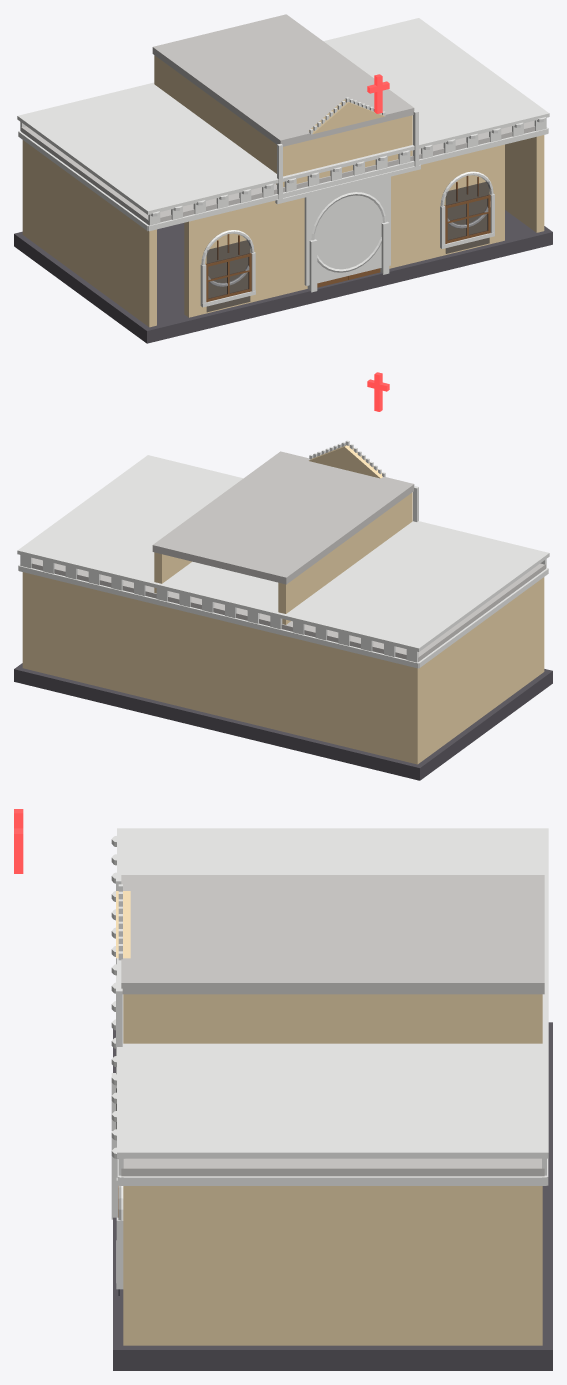
File: Subbamma chapppel.glb
3 views of the same model, one above another, from view 1: azimuth 30°, elevation 25°; view 2: azimuth 150°, elevation 25°; view 3: azimuth 270°, elevation 25° (orthographic). The views are drawn at different scales.
Parts seen in each view (by area): view 1: Parapet_Slab, Gable_Roof, Wall_Left, Plinth, Wall_FL, Wall_FR, Ent_ArchBG, Gable_Wall, Gable_WallL, Wall_Right, Roof_Main, Trim_F (+11 smaller); view 2: Wall_Back, Parapet_Slab, Gable_Roof, Wall_Left, Plinth, Gable_WallL, Roof_Main, Trim_B, GablePeak, Trim_L, Gable_WallR; view 3: Parapet_Slab, Wall_Right, Gable_Roof, Gable_WallR, Plinth, Roof_Main, Trim_R, Wall_Back, Gable_Wall, GablePeak.
Boxes of the visible parts, <box> form: Parapet_Slab: <box>17,18,549,214</box>; Gable_Roof: <box>152,14,414,146</box>; Wall_Left: <box>22,141,156,327</box>; Plinth: <box>14,210,552,343</box>; Wall_FL: <box>184,198,307,317</box>; Wall_FR: <box>389,144,504,268</box>; Ent_ArchBG: <box>304,176,390,285</box>; Gable_Wall: <box>276,115,412,187</box>; Gable_WallL: <box>154,55,288,185</box>; Wall_Right: <box>505,135,544,232</box>; Roof_Main: <box>21,120,535,224</box>; Trim_F: <box>148,128,548,231</box>; Wall_Back: <box>22,572,421,764</box>; Parapet_Slab: <box>17,455,549,651</box>; Gable_Roof: <box>152,451,414,584</box>; Wall_Left: <box>410,577,544,763</box>; Plinth: <box>14,663,552,780</box>; Gable_WallL: <box>278,492,412,624</box>; Roof_Main: <box>31,558,545,661</box>; Trim_B: <box>18,565,418,668</box>; GablePeak: <box>309,445,382,478</box>; Trim_L: <box>417,568,548,668</box>; Gable_WallR: <box>154,552,191,593</box>; Parapet_Slab: <box>117,828,548,1158</box>; Wall_Right: <box>123,1186,542,1345</box>; Gable_Roof: <box>121,875,544,994</box>; Gable_WallR: <box>124,994,542,1043</box>; Plinth: <box>113,1022,552,1370</box>; Roof_Main: <box>121,1158,544,1176</box>; Trim_R: <box>119,1176,546,1185</box>; Wall_Back: <box>528,1186,542,1345</box>; Gable_Wall: <box>123,994,137,1043</box>; GablePeak: <box>116,891,130,958</box>.
Size of the model in its own units: 18.5 by 10.42 by 12.86.
